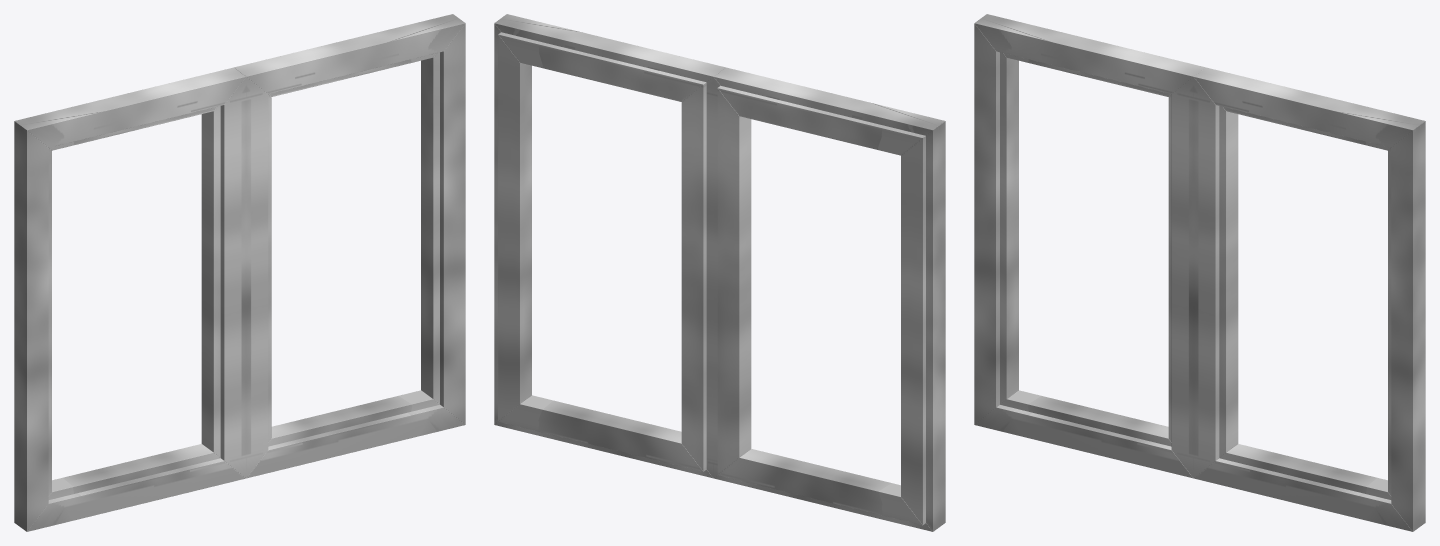
File: window frame.fbx
3 views of the same model, side by side, from view 1: azimuth 30°, elevation 25°; view 2: azimuth 150°, elevation 25°; view 3: azimuth 330°, elevation 25° (orthographic).
Parts seen in each view (by area): view 1: window2, window1; view 2: window2, window1; view 3: window1, window2.
Part boxes in pixels (x1,y1,x2,y2): window2: [14, 67, 246, 531]; window1: [234, 14, 465, 478]; window2: [713, 67, 945, 531]; window1: [494, 14, 725, 478]; window1: [1193, 67, 1425, 531]; window2: [974, 14, 1205, 478].
Bounding box in the file's own units: 463 × 405 × 28.94.
1 material, 1 textured.
